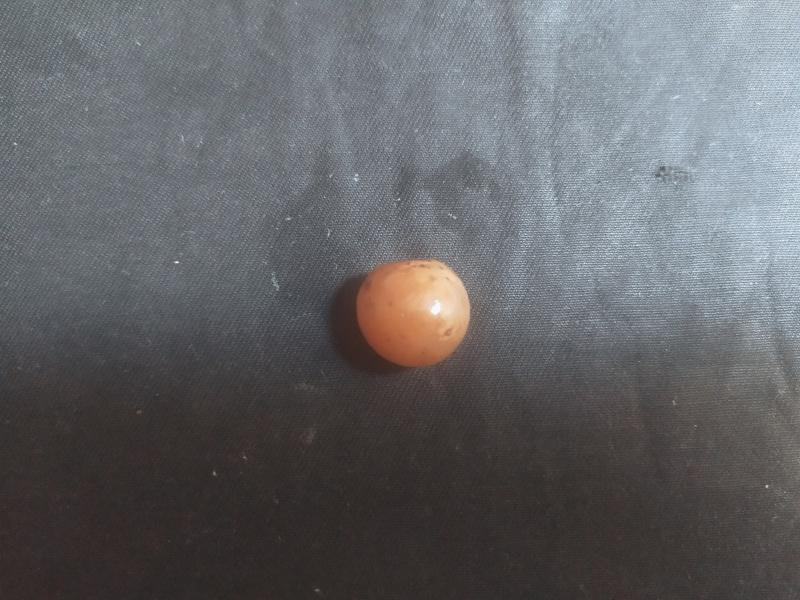Grape Rotten: (353, 257, 473, 370)
